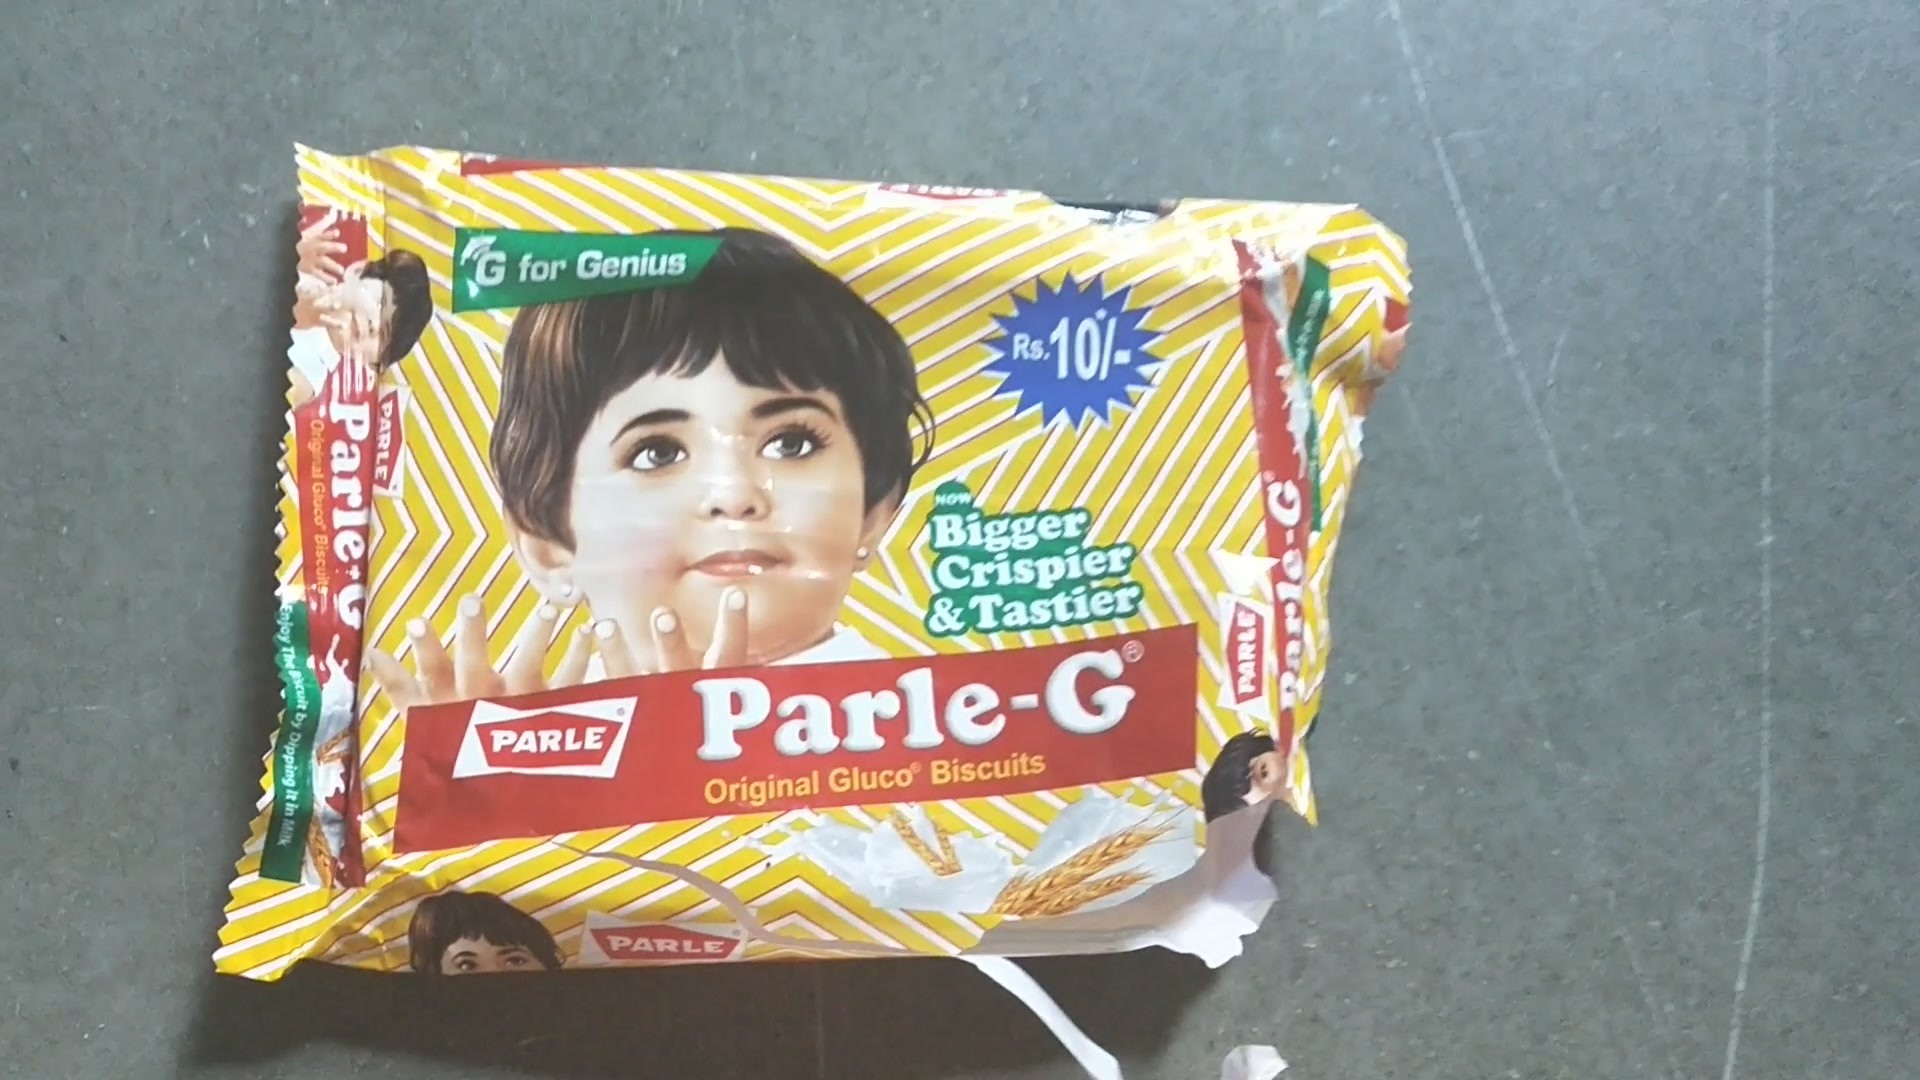parle-g: (324, 208, 1232, 936)
